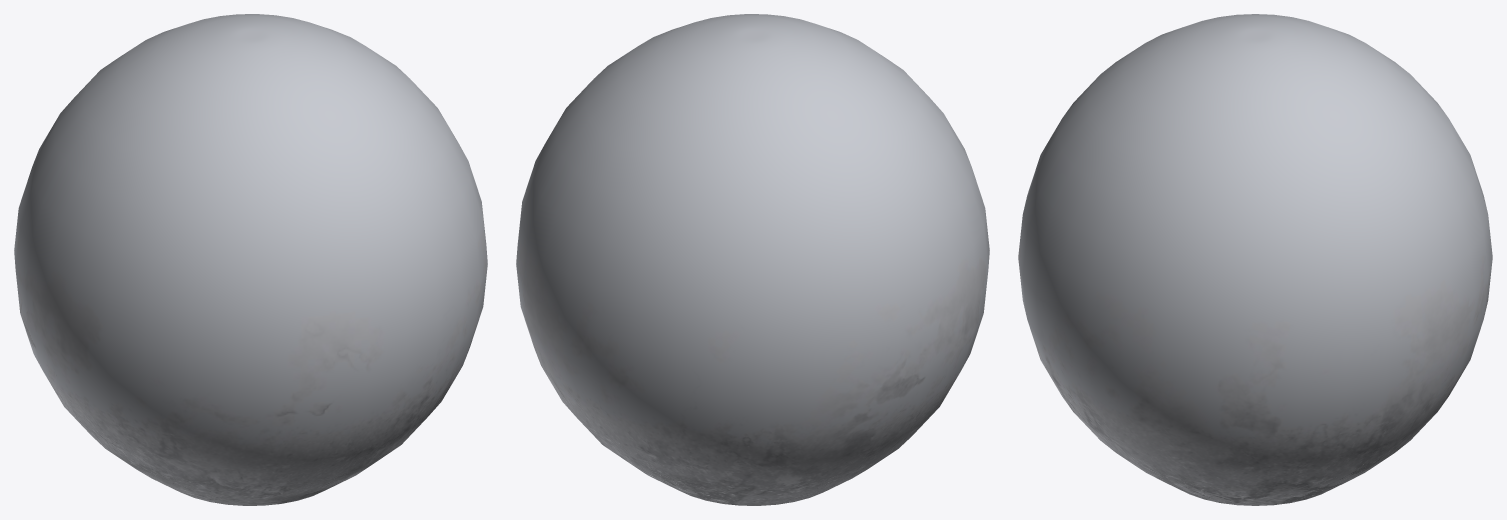
The model's file is Street_Lamp_Bulb.obj.
3 renders of one model, left to right at view 1: azimuth 30°, elevation 25°; view 2: azimuth 150°, elevation 25°; view 3: azimuth 270°, elevation 25°, orthographic.
Visible parts, largest first — view 1: StrLmp1_Lamp; view 2: StrLmp1_Lamp; view 3: StrLmp1_Lamp.
Part boxes in pixels (x1,y1,x2,y2): StrLmp1_Lamp: (14, 14, 487, 505); StrLmp1_Lamp: (516, 14, 989, 505); StrLmp1_Lamp: (1018, 14, 1492, 505).
Bounding box in the file's own units: 0.2574 × 0.2582 × 0.2574.
Materials: 1 (1 with a texture image).
